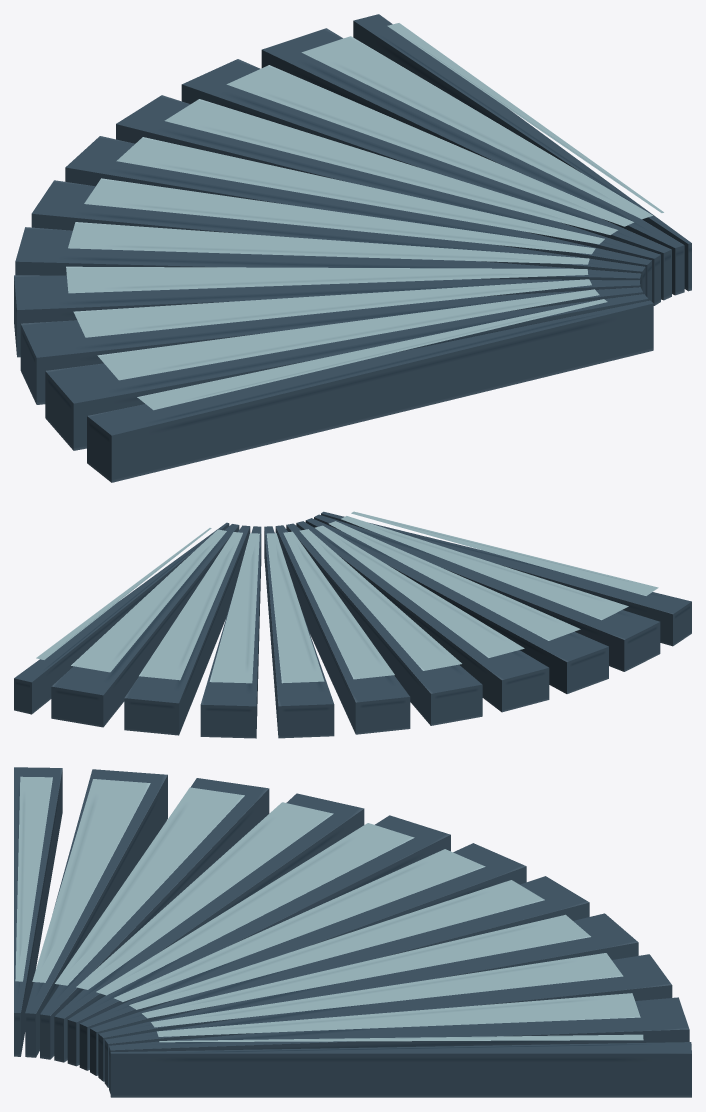
File: sc_tread_curve_right_13.obj
3 renders of one model, top to bottom at view 1: azimuth 30°, elevation 25°; view 2: azimuth 150°, elevation 25°; view 3: azimuth 270°, elevation 25°, orthographic. The views are drawn at different scales.
Bounding box in the file's own units: 17.5 × 1.56 × 17.5.
Materials: 1 (1 with a texture image).
